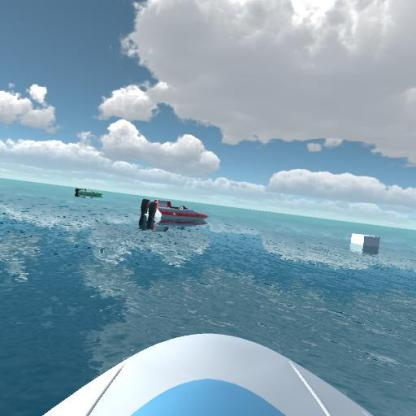usv0: (72, 182, 105, 202)
usv3: (136, 194, 212, 230)
